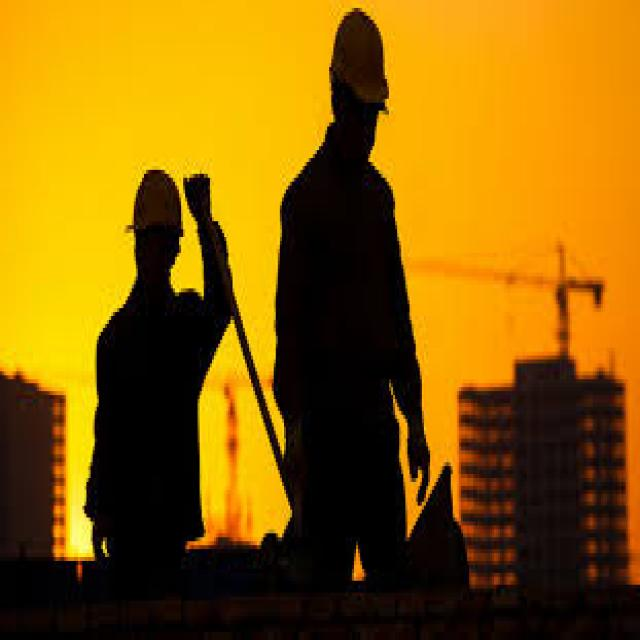Safety-Helmet: (319, 4, 401, 118), (115, 166, 195, 248)
